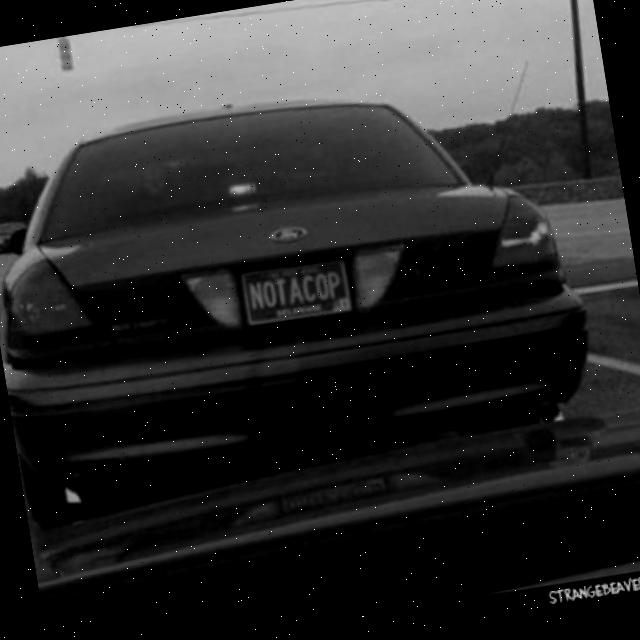Autre: (242, 249, 358, 324)
